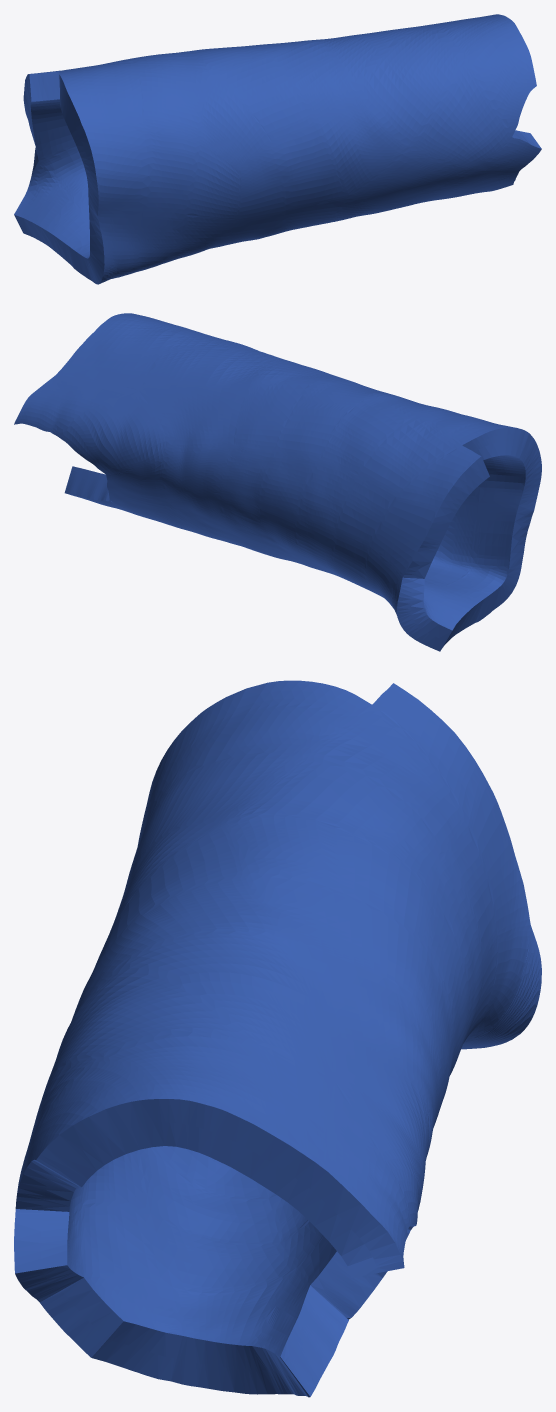
File: IM_Coarse0.25xMesh.obj
The picture shows the model from 3 angles, top to bottom: view 1: azimuth 30°, elevation 25°; view 2: azimuth 150°, elevation 25°; view 3: azimuth 270°, elevation 25°; orthographic projection. The views are drawn at different scales.
Parts seen in each view (by area): view 1: Body1; view 2: Body1; view 3: Body1.
Boxes of the visible parts, x1,y1,x2,y2 form: Body1: (14,14,541,284); Body1: (14,313,541,651); Body1: (14,680,541,1397).
Bounding box in the file's own units: 0.1219 × 0.0484 × 0.0623.
